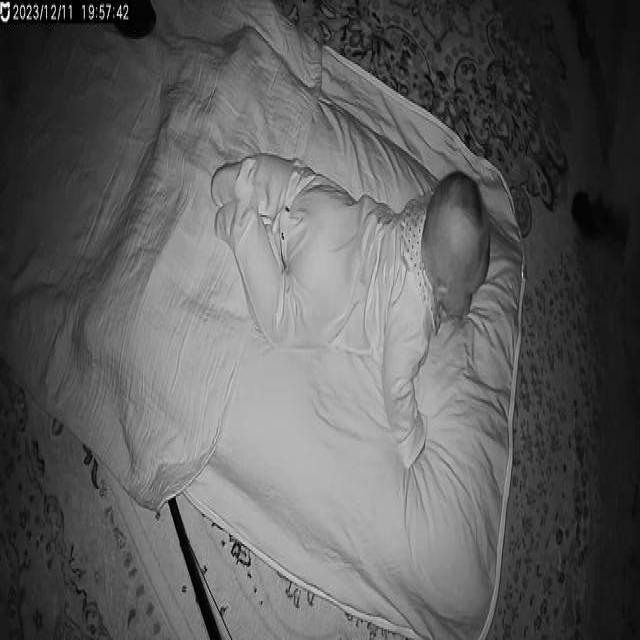baby: (206, 153, 494, 473)
